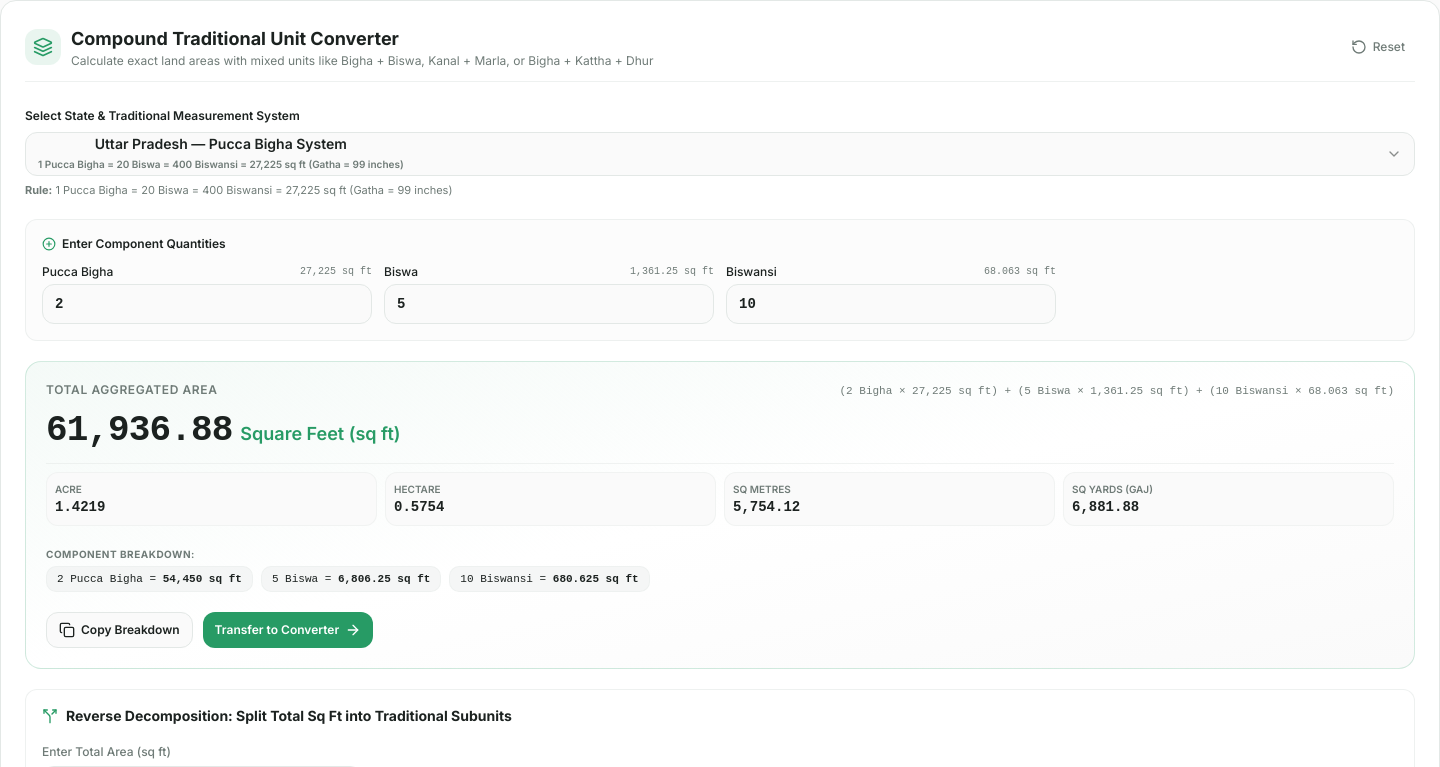
Test case: PR #2 Pre-Merge Remediation Suite › Compound Quantity Validation & TypeScript Integrity (COMPOUND-001 - COMPOUND-019, TYPE-001 - TYPE-002) › COMPOUND-018: Error feedback is visible and accessible
The width and height of the screenshot is (1440, 767).
Replace the text in the field labelled "Pucca Bigha" with "100abc" at (207, 304), box [42,284,372,324]
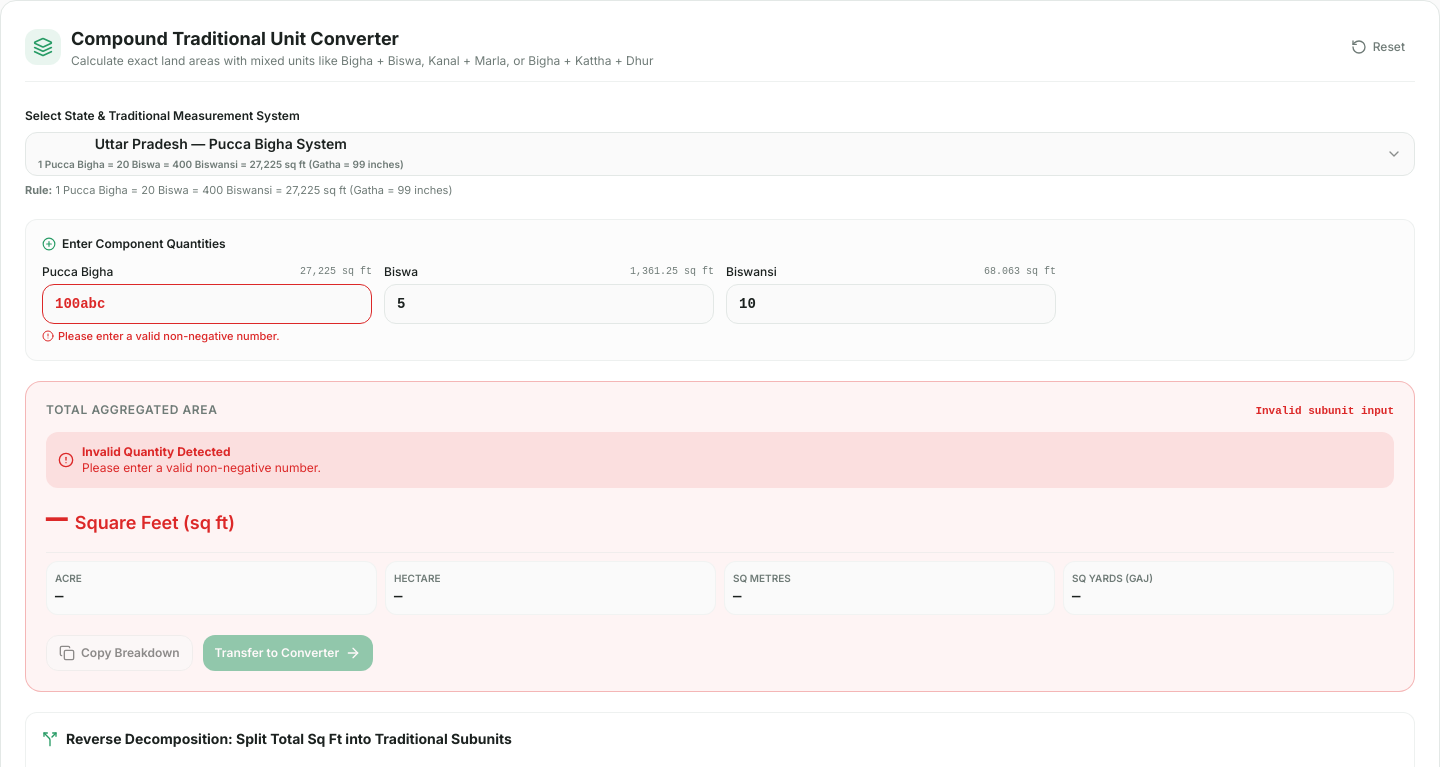
Result: the message "Please enter a valid non-negative number." is shown at [42,328,280,342]
Result: the message with id "sub-error-bigha" reads "Please enter a valid non-negative number." at [58,328,280,342]
